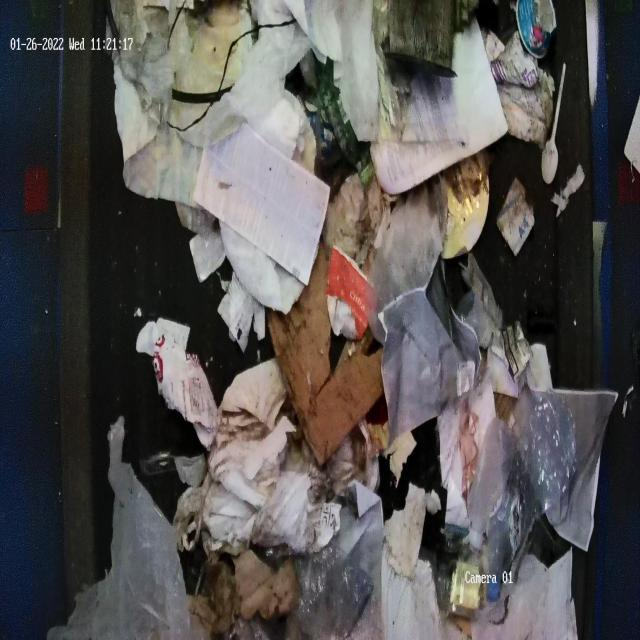other-trash: (61, 0, 616, 637)
